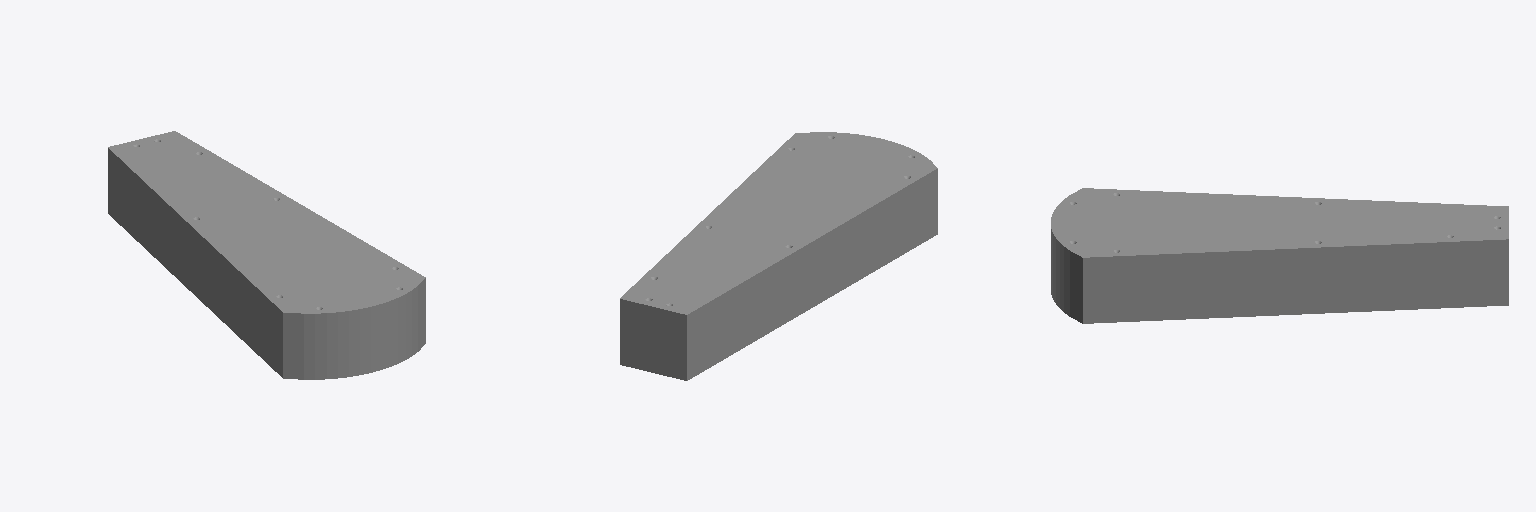
The model's file is pieza4.obj.
3 views of the same model, side by side, from view 1: azimuth 30°, elevation 25°; view 2: azimuth 150°, elevation 25°; view 3: azimuth 270°, elevation 25° (orthographic).
Visible parts, largest first — view 1: Body1_Body1.003; view 2: Body1_Body1.003; view 3: Body1_Body1.003.
Part boxes in pixels (x1,y1,x2,y2): Body1_Body1.003: (108,131,425,379); Body1_Body1.003: (620,132,937,380); Body1_Body1.003: (1051,188,1508,323).
Size of the model in its own units: 0.1723 by 0.0762 by 0.4788.